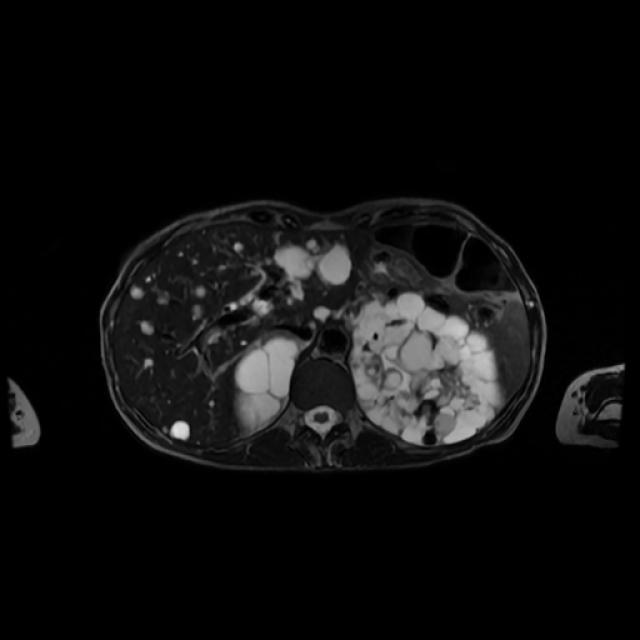sag: (235, 330, 304, 436)
sol: (350, 291, 504, 448)
